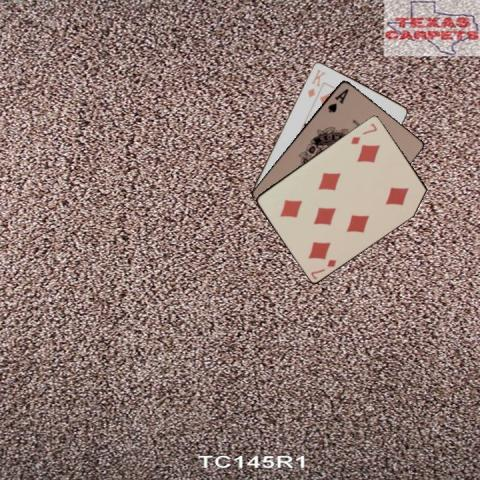7d: (348, 120, 379, 145), (308, 256, 338, 281)
As: (325, 85, 350, 114)
Kd: (304, 66, 327, 99)
